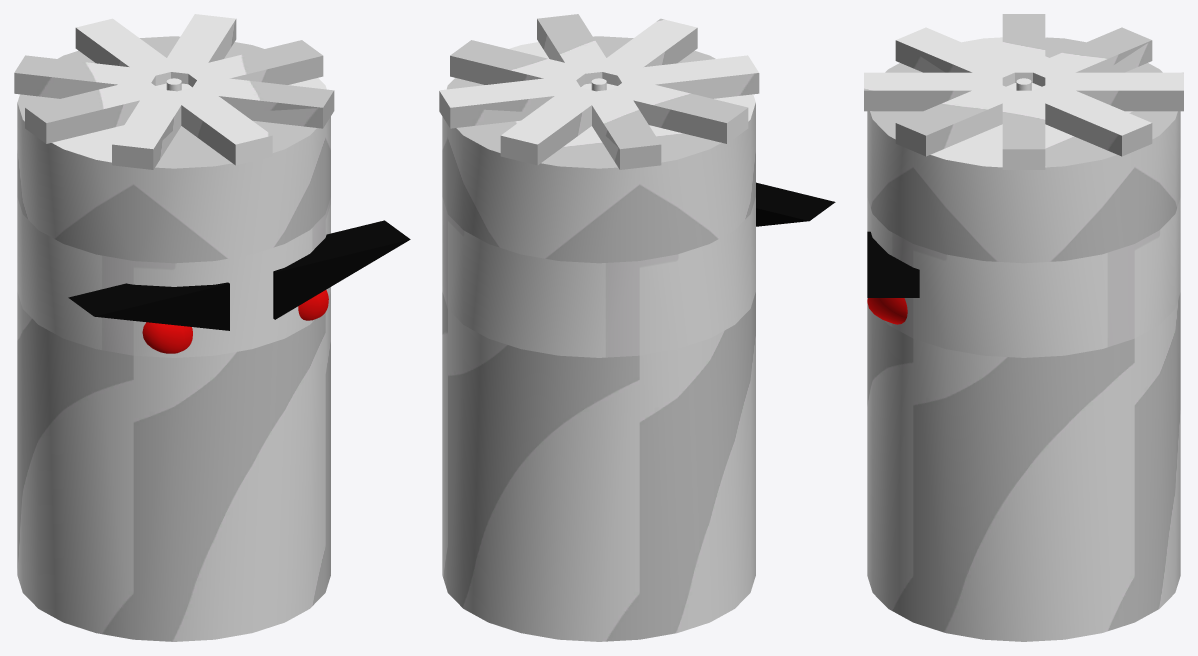
The model's file is Character6.obj.
The picture shows the model from 3 angles, left to right: view 1: azimuth 30°, elevation 25°; view 2: azimuth 150°, elevation 25°; view 3: azimuth 270°, elevation 25°; orthographic projection.
Bounding box in the file's own units: 0.7 × 1.04 × 0.6124.
